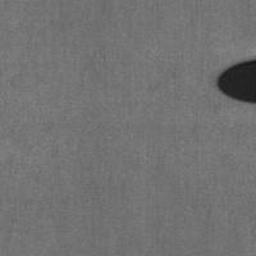Punching: (218, 60, 256, 102)
